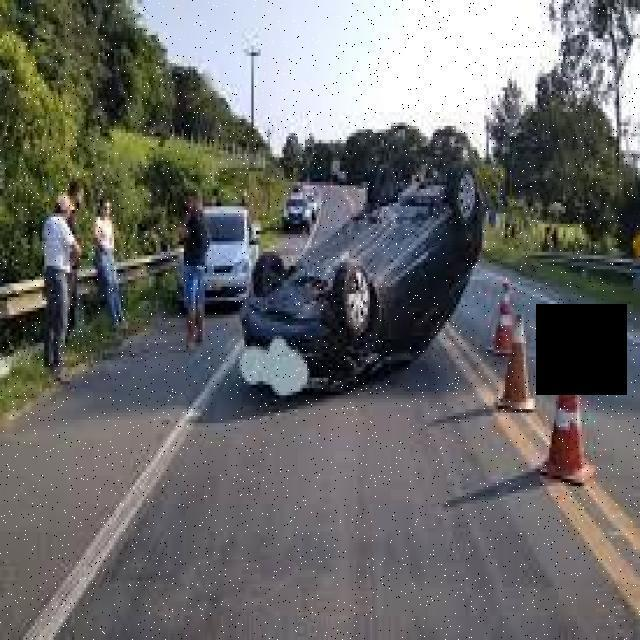single accident: (243, 190, 488, 406)
